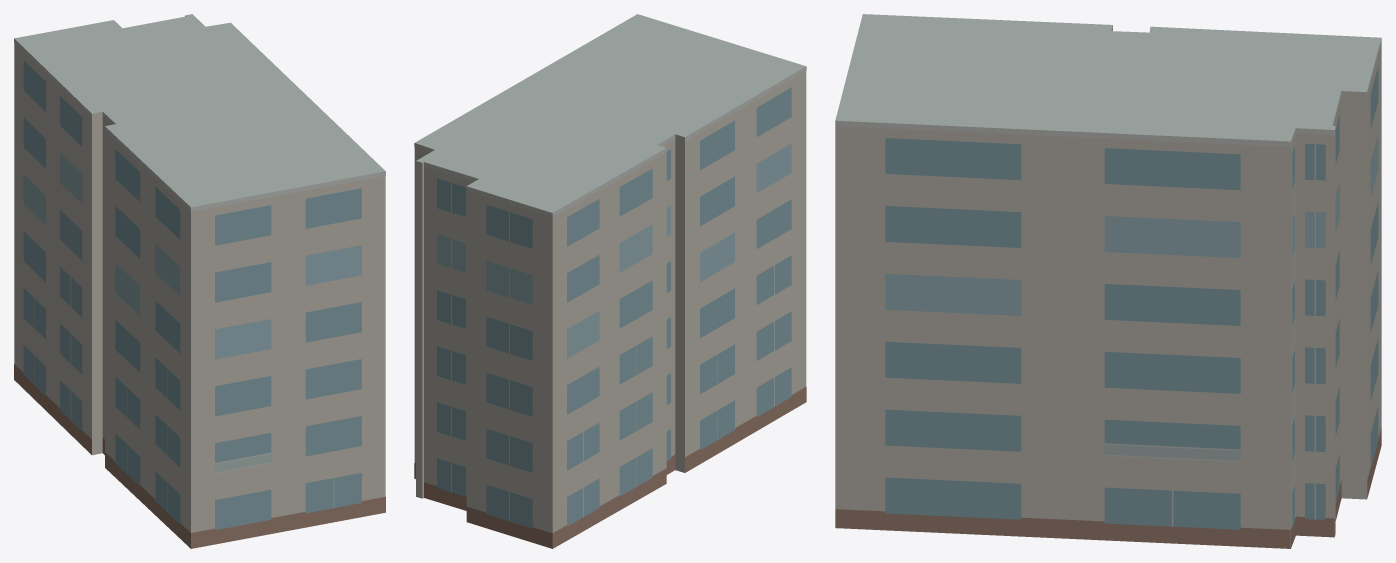
File: survey-upis-32996990.glb
3 renders of one model, left to right at view 1: azimuth 30°, elevation 25°; view 2: azimuth 150°, elevation 25°; view 3: azimuth 270°, elevation 25°, orthographic. The views are drawn at different scales.
Visible parts, largest first — view 1: survey-upis-32996990.tmp; view 2: survey-upis-32996990.tmp; view 3: survey-upis-32996990.tmp.
Boxes of the visible parts, bbox=[...] form: survey-upis-32996990.tmp: bbox=[14, 14, 385, 548]; survey-upis-32996990.tmp: bbox=[414, 14, 806, 548]; survey-upis-32996990.tmp: bbox=[835, 14, 1381, 548].
Size of the model in its own units: 12.57 by 18.7 by 22.74.
